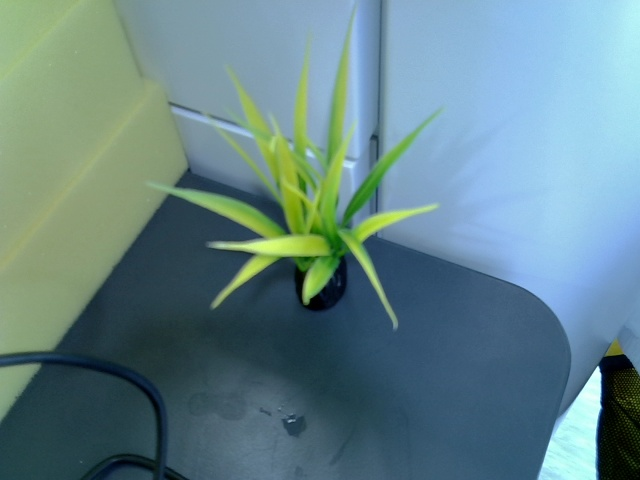해바라기새싹: (181, 16, 429, 331)
